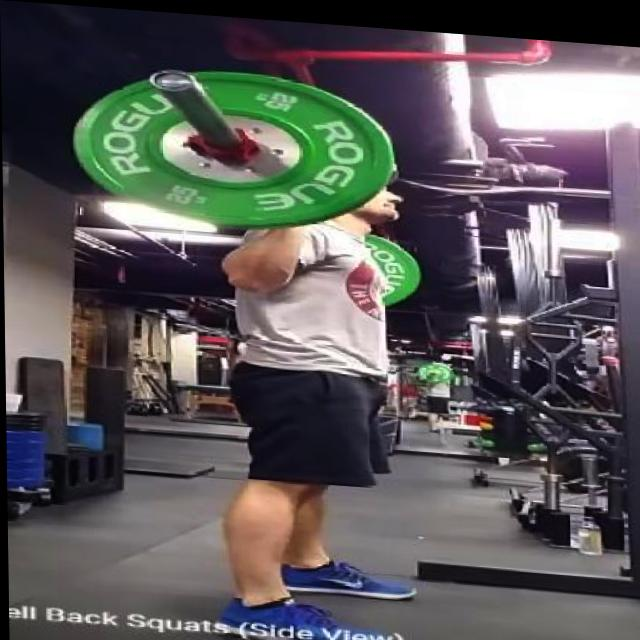barbell: (50, 46, 399, 237)
